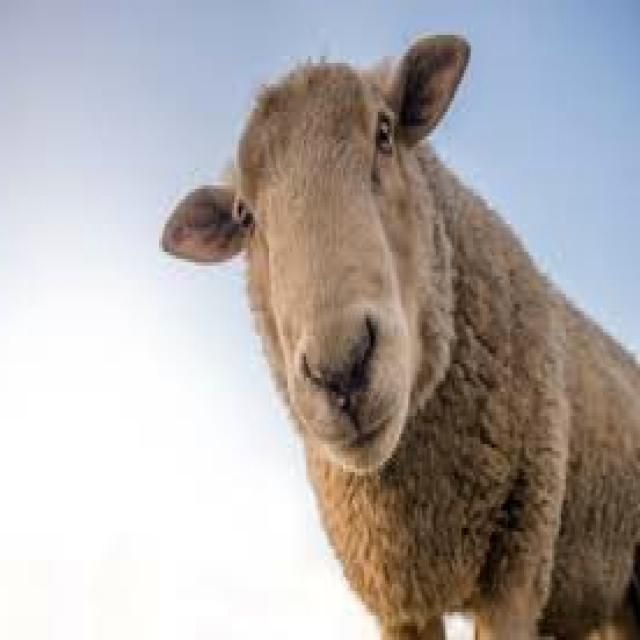sheep: (165, 35, 640, 637)
